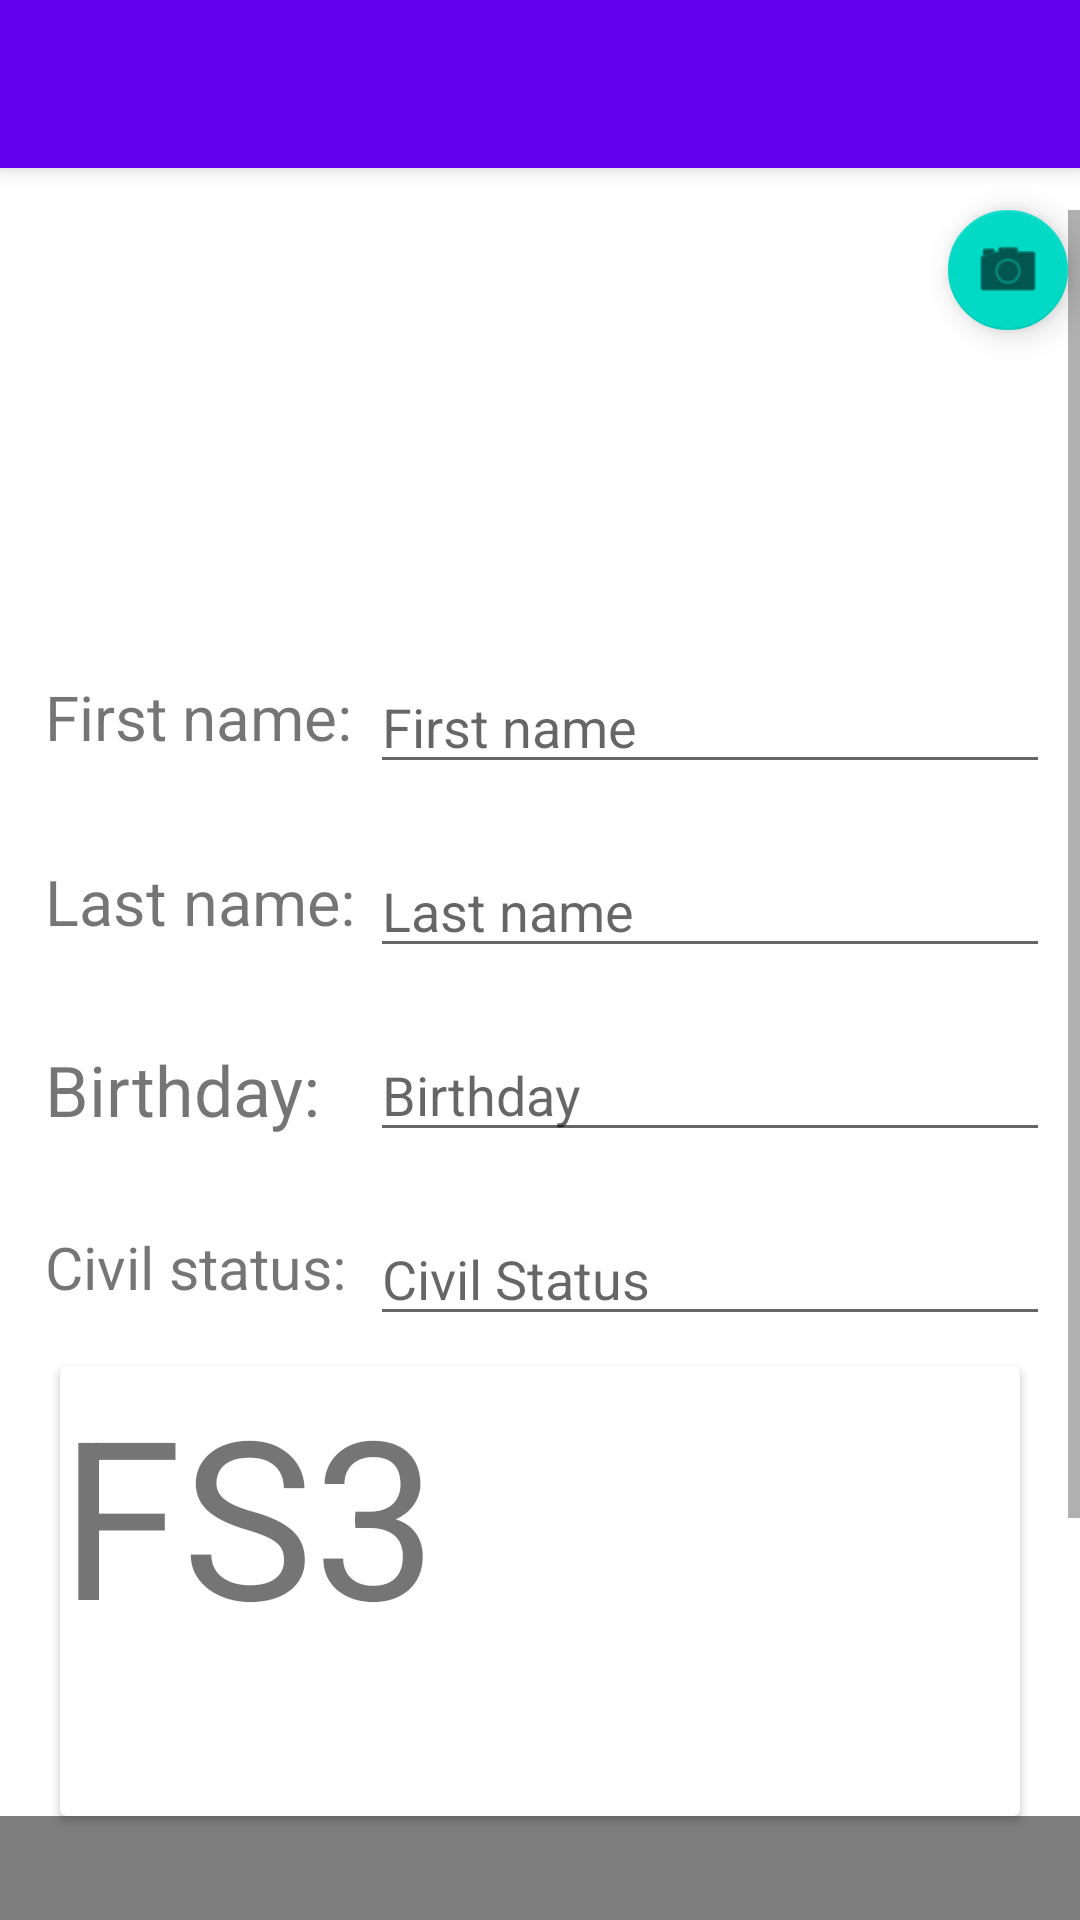

Named icons in this screenshot (1080×1920) and their centers, (x=x, y=y):
camera: (x=1014, y=276)
